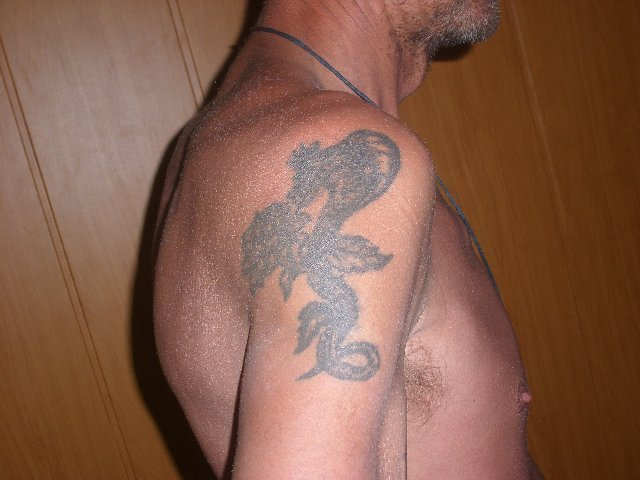tatu6_drakon: (234, 115, 430, 430)
